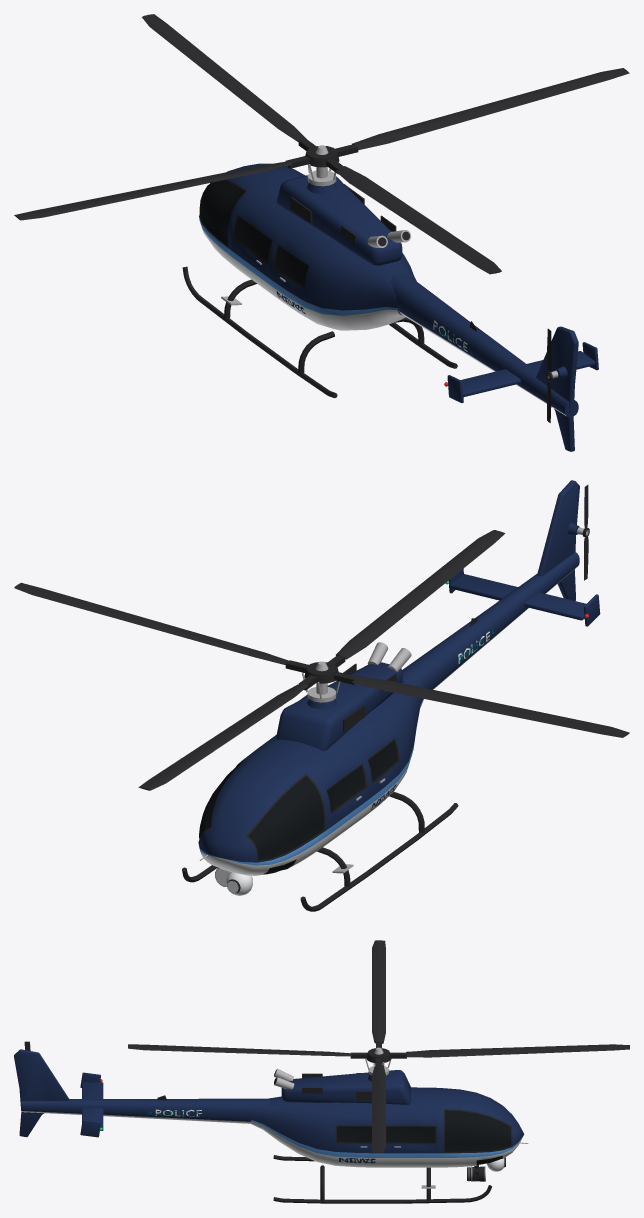
File: helicopter.glb
3 views of the same model, one above another, from view 1: azimuth 30°, elevation 25°; view 2: azimuth 150°, elevation 25°; view 3: azimuth 270°, elevation 25° (orthographic). The views are drawn at different scales.
Visible parts, largest first — view 1: Body, MainRotorBlades, MainRotorHub; view 2: Body, MainRotorBlades, MainRotorHub; view 3: Body, MainRotorBlades, MainRotorHub.
Part boxes in pixels (x1,y1,x2,y2): Body: (182,163,598,451); MainRotorBlades: (14,14,629,274); MainRotorHub: (285,138,358,186); Body: (182,480,600,911); MainRotorBlades: (14,530,629,790); MainRotorHub: (285,655,355,702); Body: (14,1049,528,1203); MainRotorBlades: (128,940,629,1153); MainRotorHub: (350,1042,406,1075).
Size of the model in its own units: 10.7 by 3.2 by 13.13.
